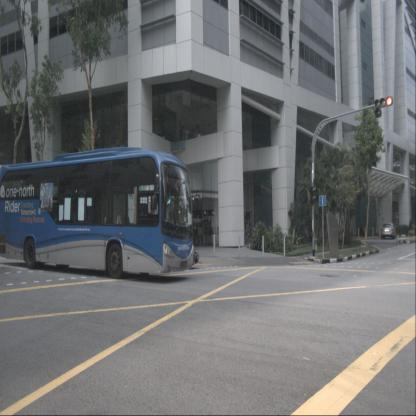vehicle-bus-rigid: (0, 146, 194, 278)
vehicle-car: (381, 223, 396, 239)
